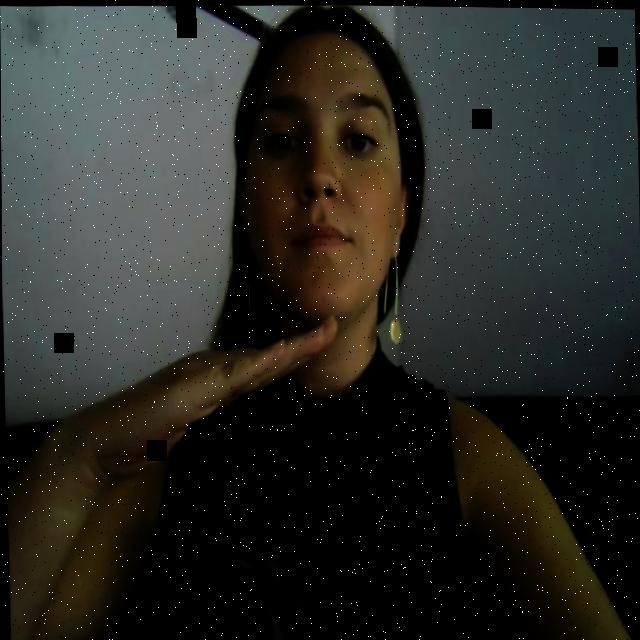Paper: (72, 314, 349, 492)
